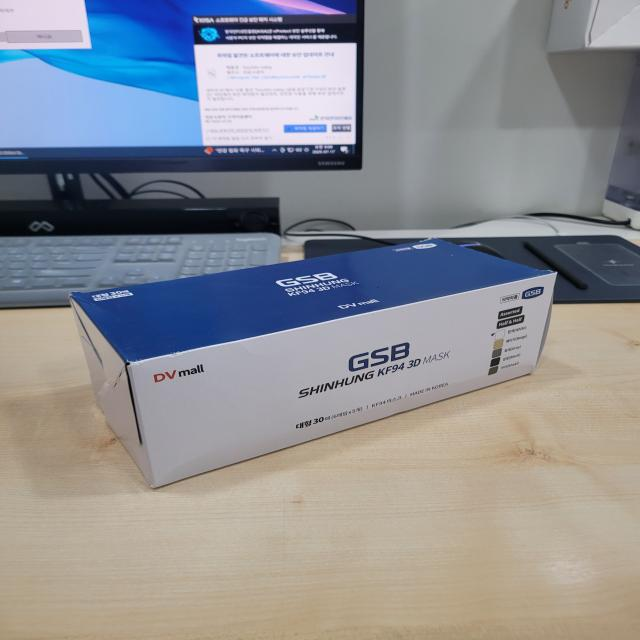mask: (53, 230, 573, 495)
